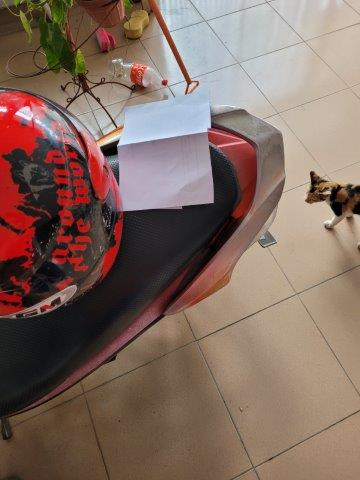botolplastik: (109, 57, 170, 89)
kertas: (118, 92, 218, 214)
